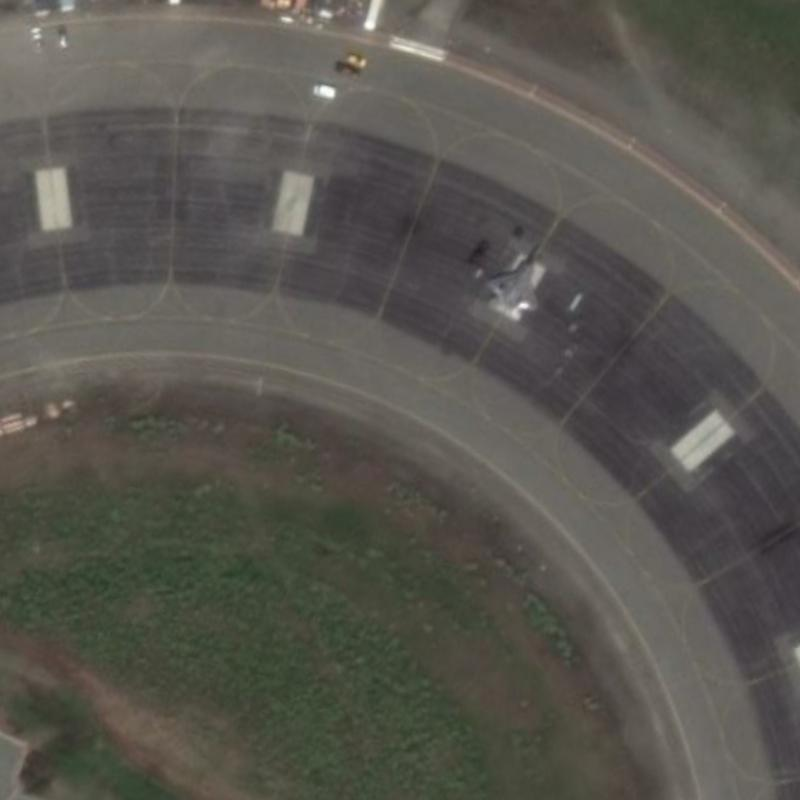A15: (475, 235, 551, 324)
